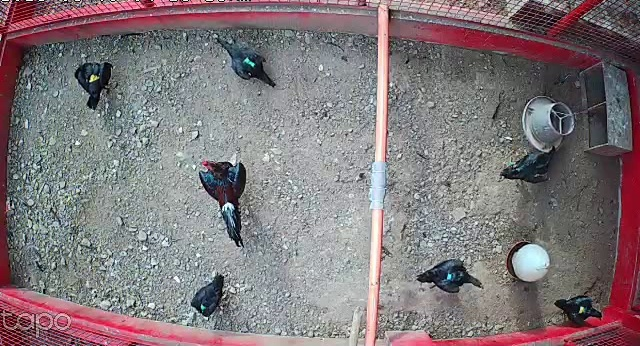Chicken: (212, 33, 279, 89), (416, 251, 485, 297), (499, 145, 559, 187), (73, 56, 118, 111), (189, 271, 230, 319), (555, 286, 606, 323)
Rooster: (194, 156, 252, 244)
Saddle_Color_Blue: (446, 270, 454, 279)
Saddle_Color_Yellow: (86, 69, 99, 82)
Saddle_Color_YellowGreen: (578, 307, 588, 314)
